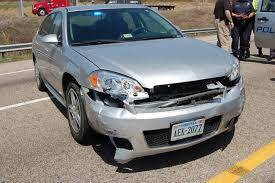Headlight-Damage: (85, 68, 143, 110)
front-bumper-dent: (90, 122, 178, 163)
